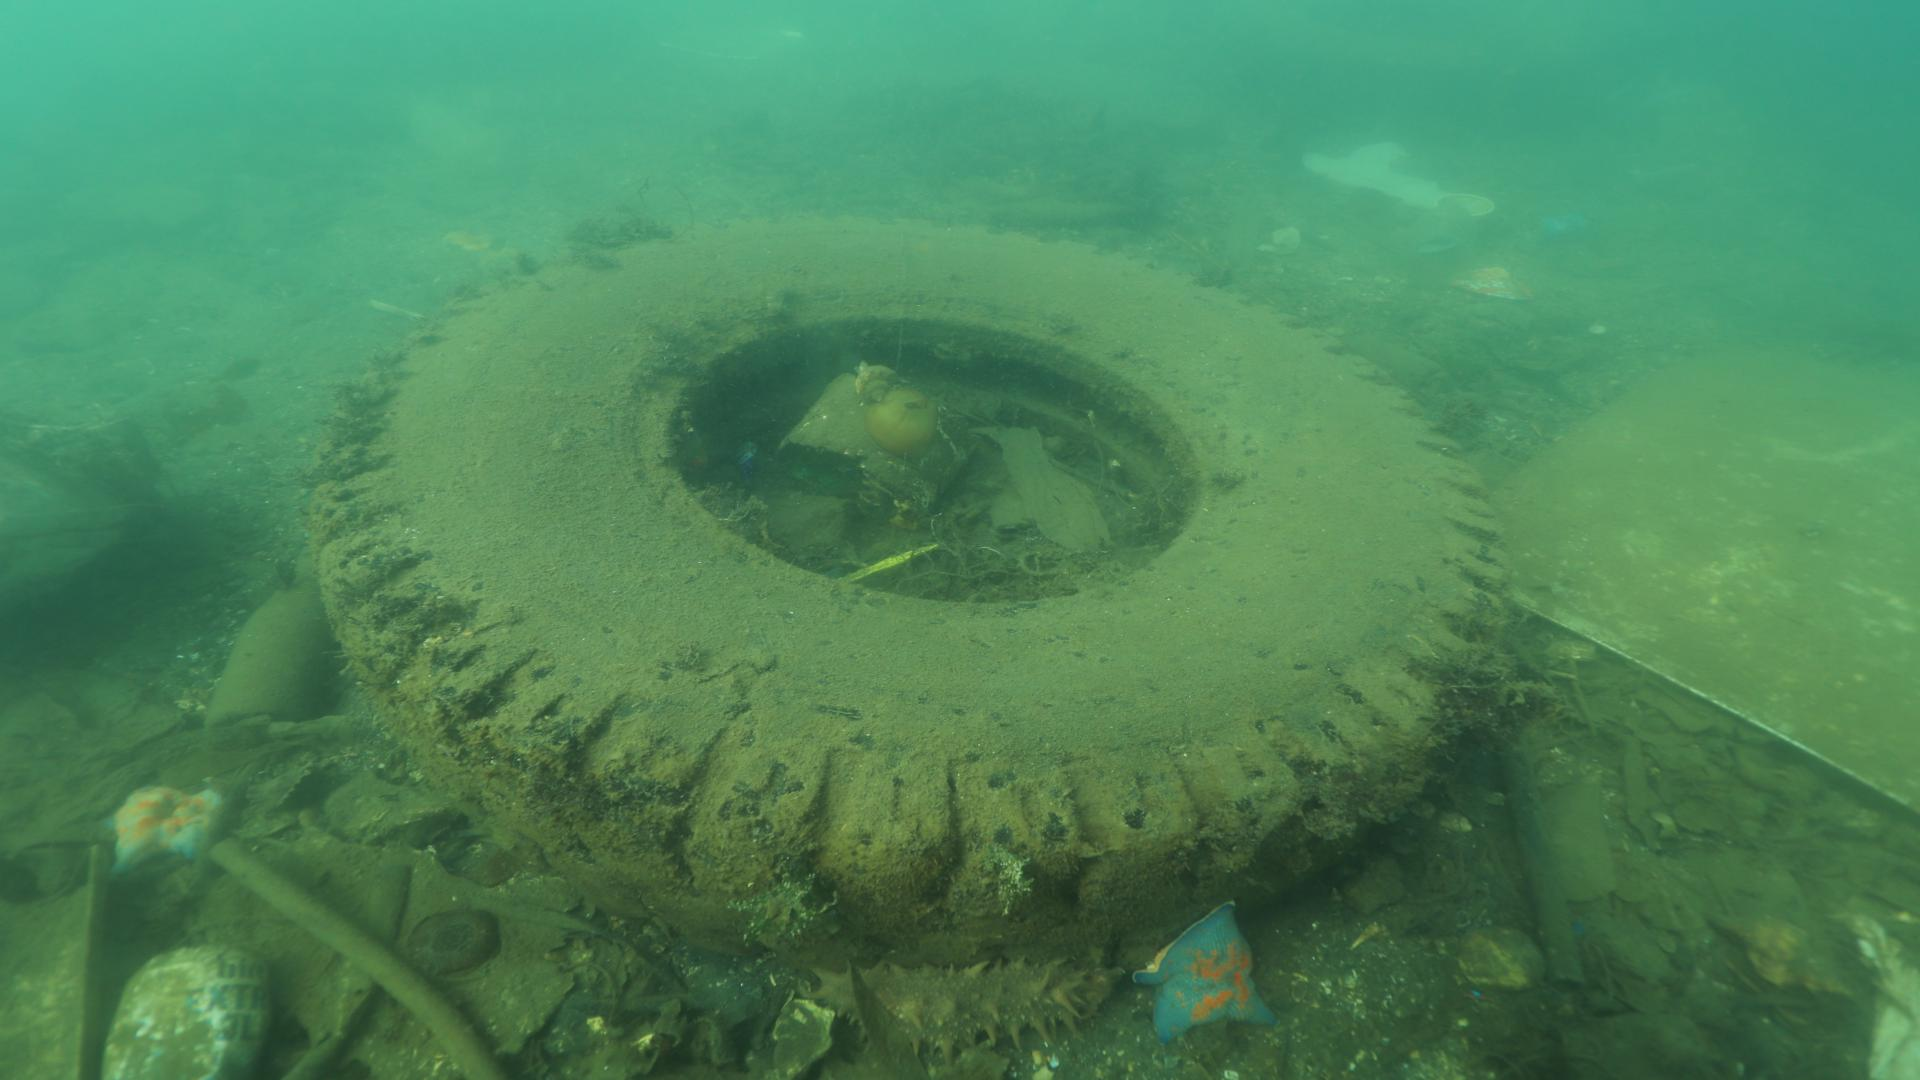tire: (301, 206, 1499, 967)
